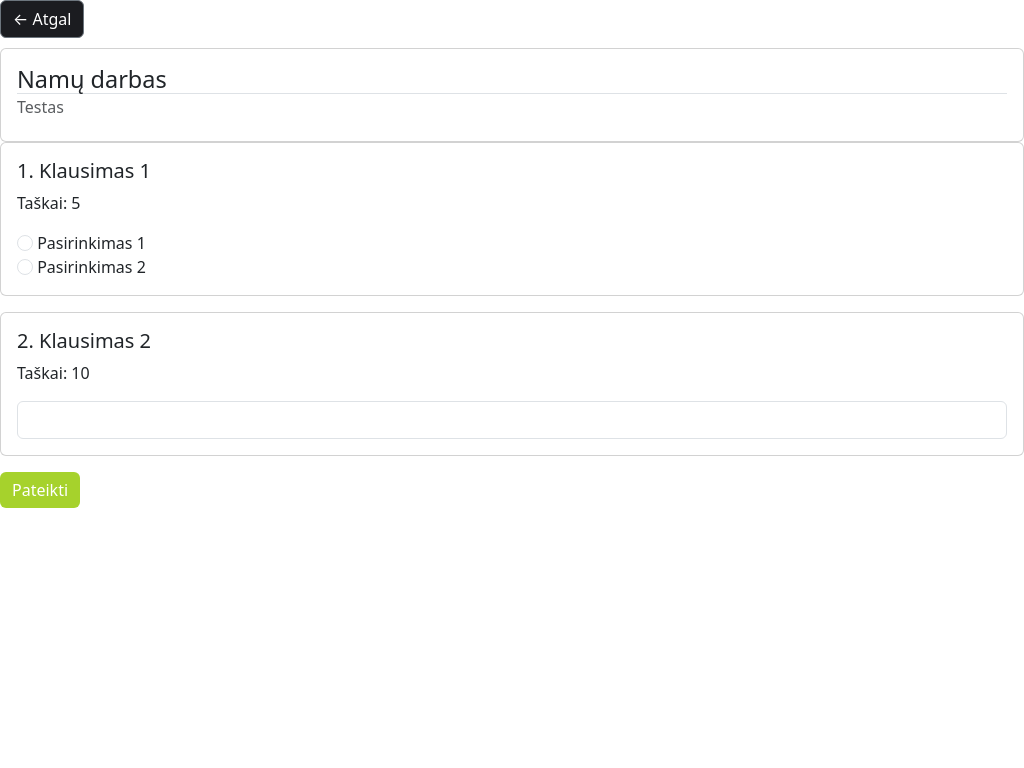
Test: AssignmentTest component › displays error message if submission fails
The width and height of the screenshot is (1024, 768).
Expected: the heading "1. Klausimas 1" is shown, x1=17 y1=157 x2=151 y2=184
In the field with test id "question1": (512, 420) x1=17 y1=401 x2=1007 y2=439, type "Sample answer"
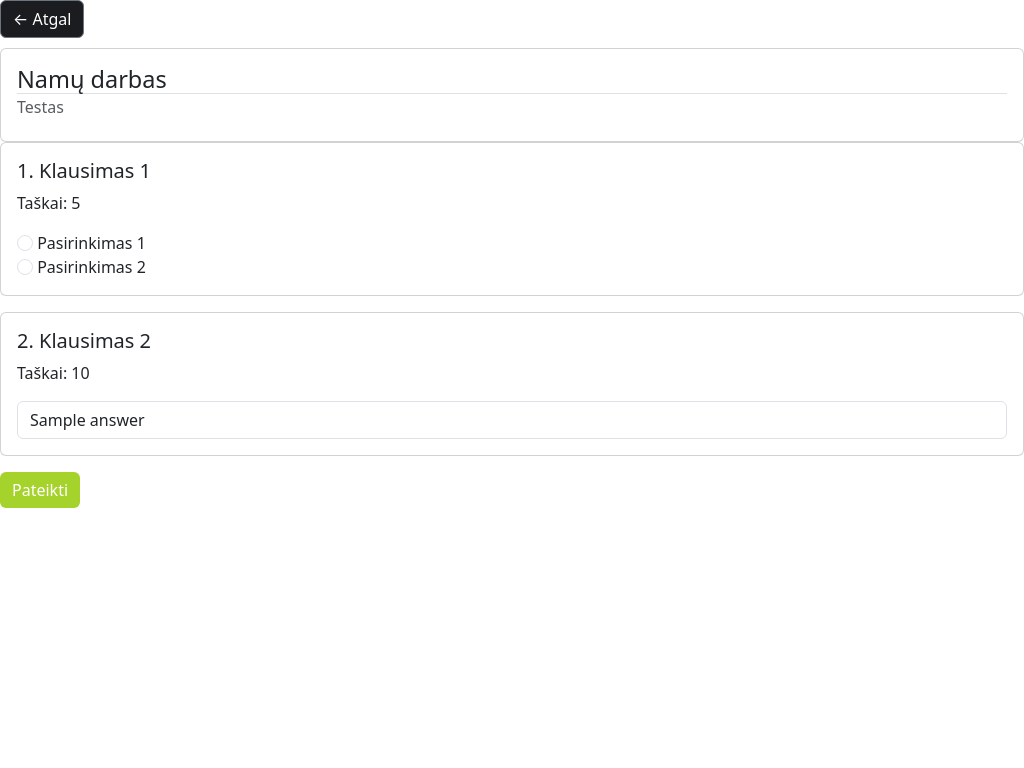
Click the button "Pateikti": click(40, 490) x1=0 y1=472 x2=80 y2=508
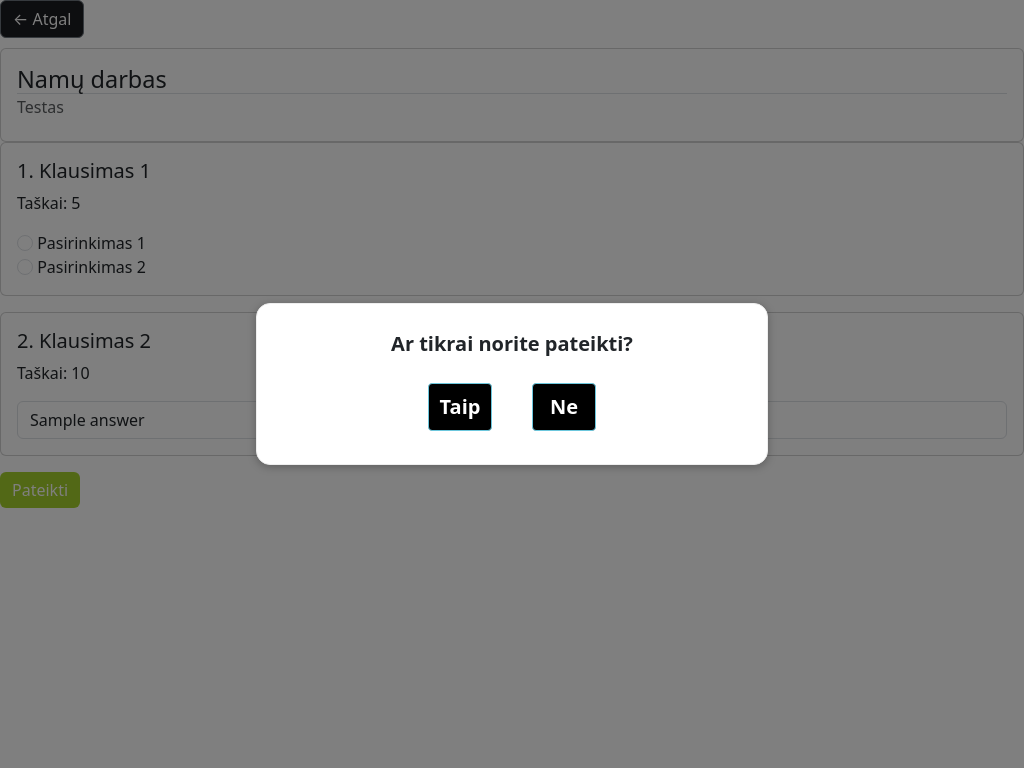
Click the button "Taip": click(460, 407) x1=428 y1=383 x2=492 y2=431
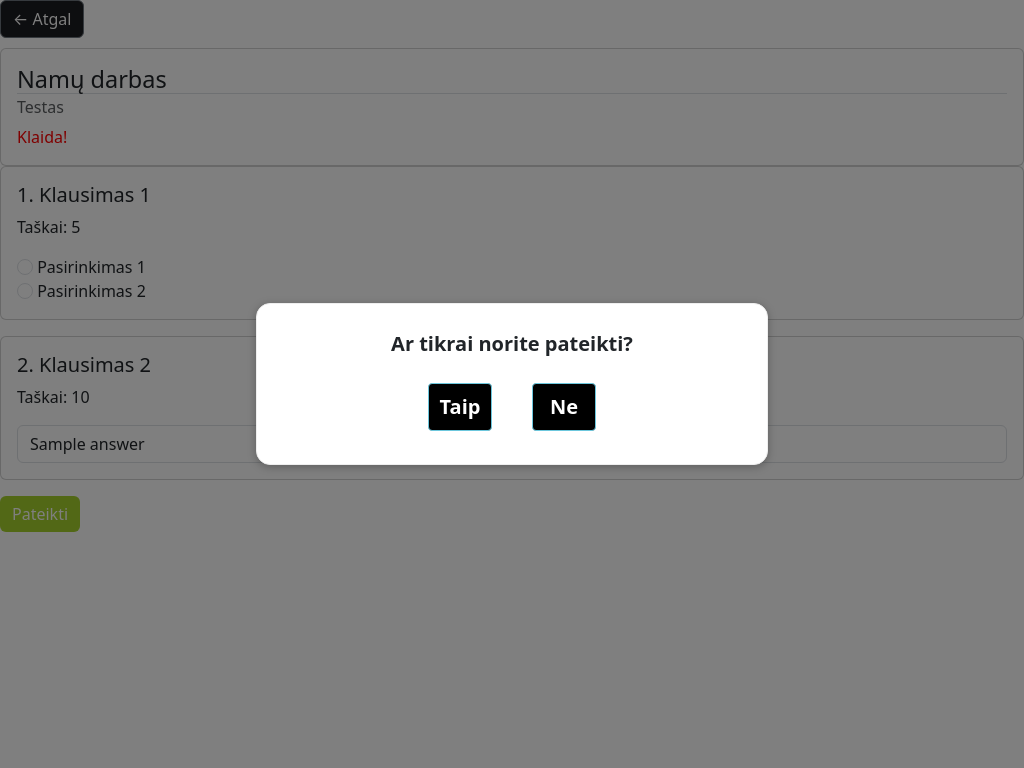
Now the text "Klaida!" is shown, box x1=17 y1=126 x2=67 y2=148
